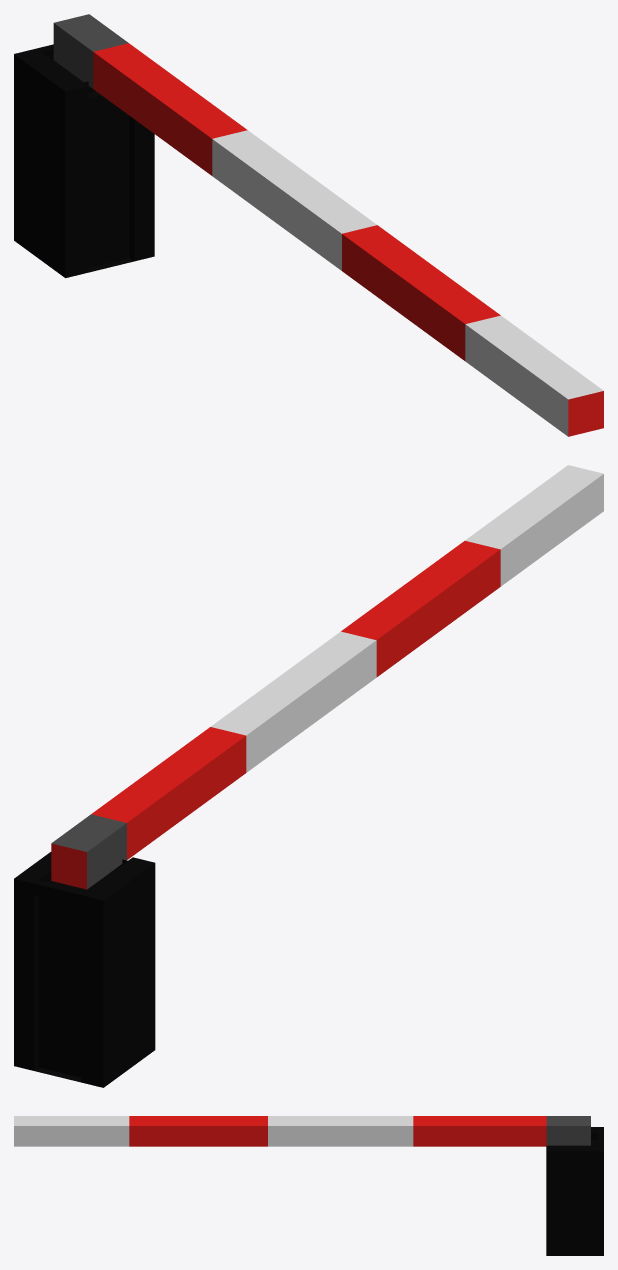
File: giris_engeli.fbx
3 views of the same model, one above another, from view 1: azimuth 30°, elevation 25°; view 2: azimuth 150°, elevation 25°; view 3: azimuth 270°, elevation 25° (orthographic). The views are drawn at different scales.
Visible parts, largest first — view 1: Küp; view 2: Küp; view 3: Küp.
Part boxes in pixels (x1,y1,x2,y2): Küp: (14,14,603,436); Küp: (14,465,603,1087); Küp: (14,1116,603,1255).
Size of the model in its own units: 50 by 118 by 511.
